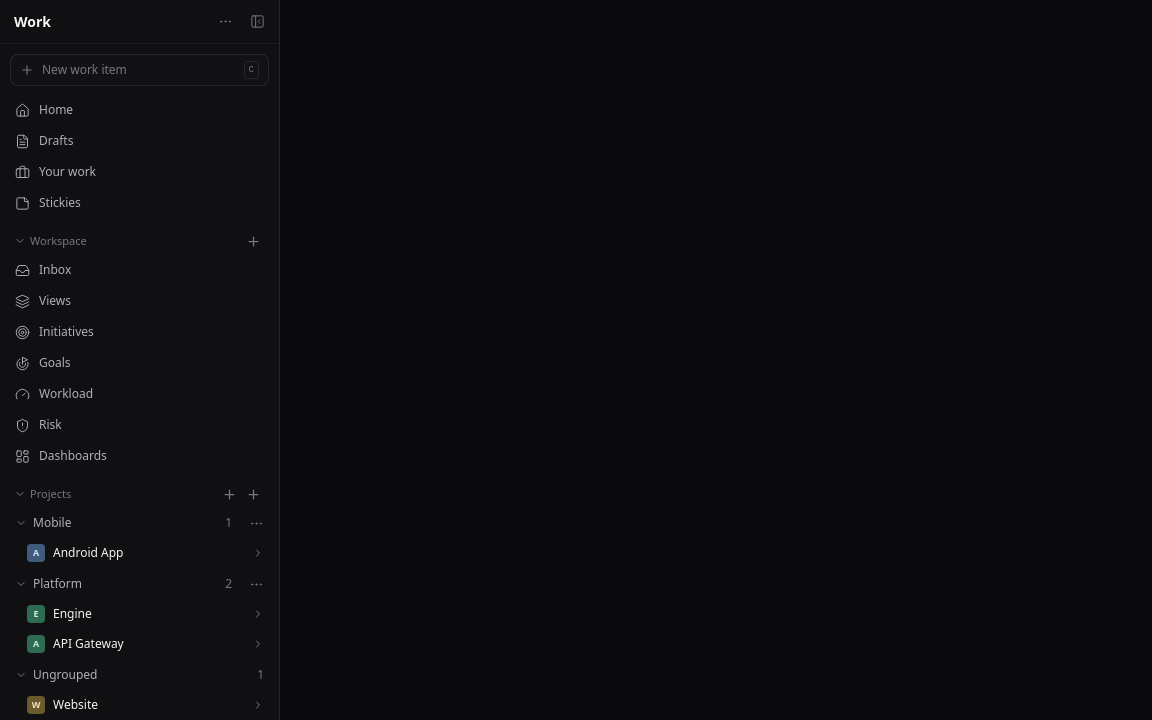
Test: teamspace manage dialog › create adds a group header after refetch
Click the button named "New teamspace" at [229, 494], box top-left (217, 482), bottom-right (241, 506)
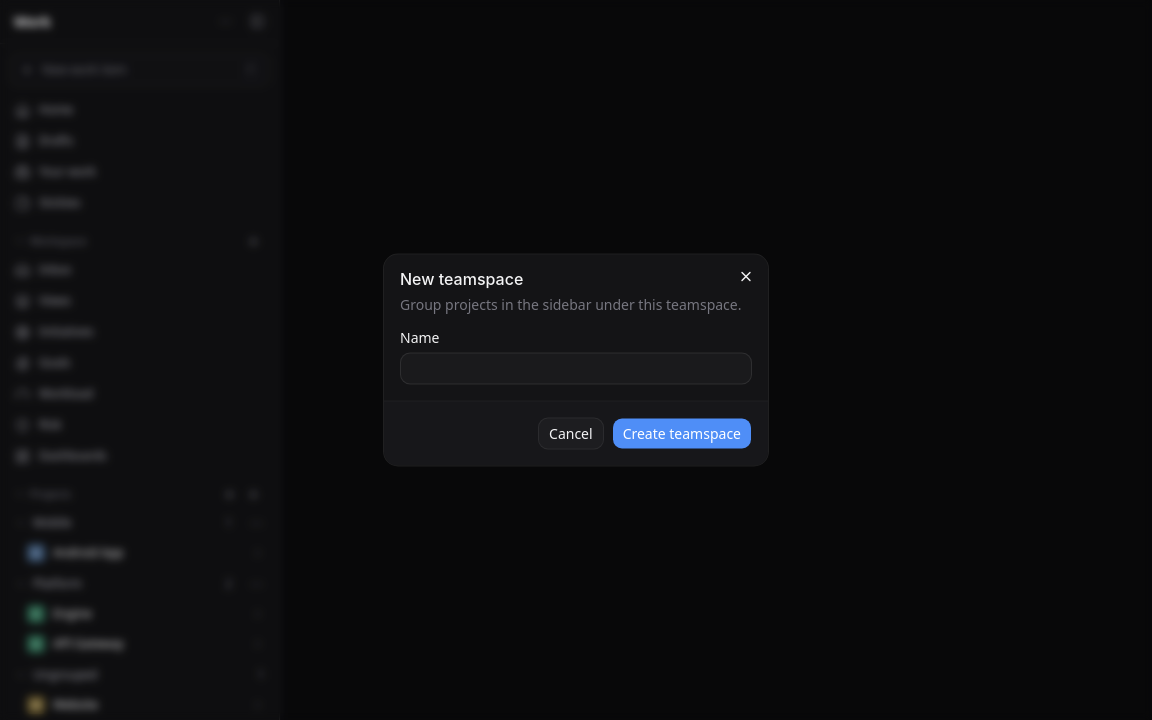
Type "  Data  " into the field labelled "Name" at [576, 368], box top-left (400, 352), bottom-right (752, 384)
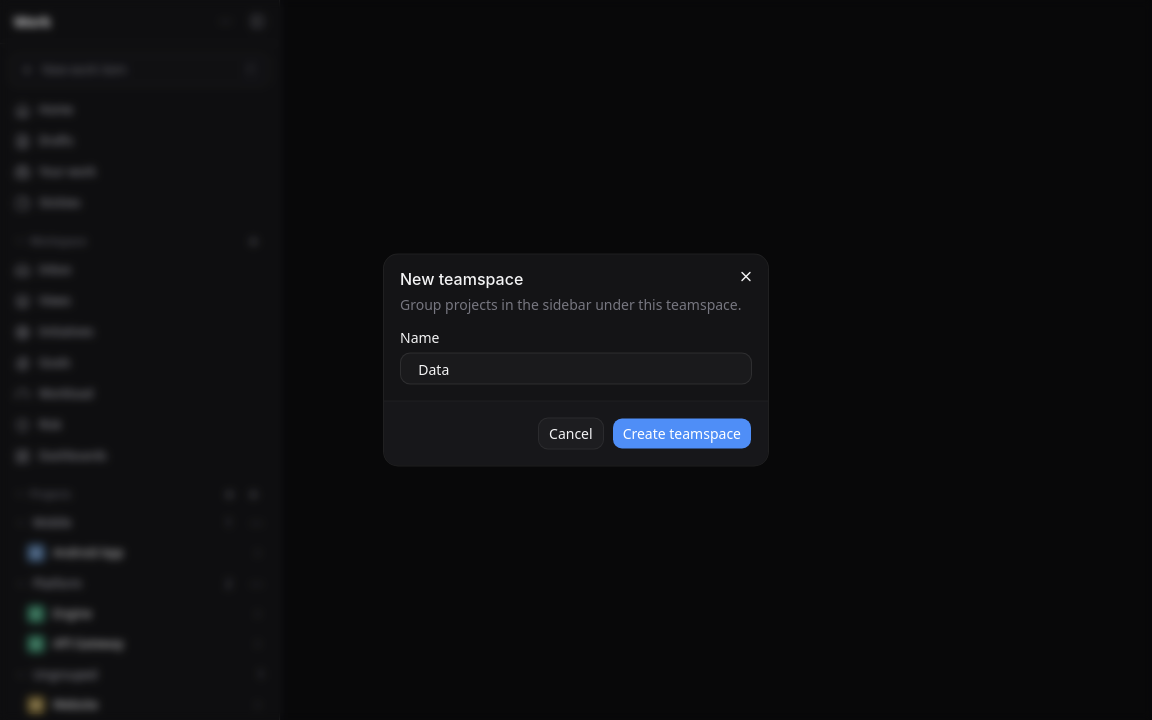
Click the button "Create teamspace" at [682, 434], box top-left (612, 418), bottom-right (752, 450)
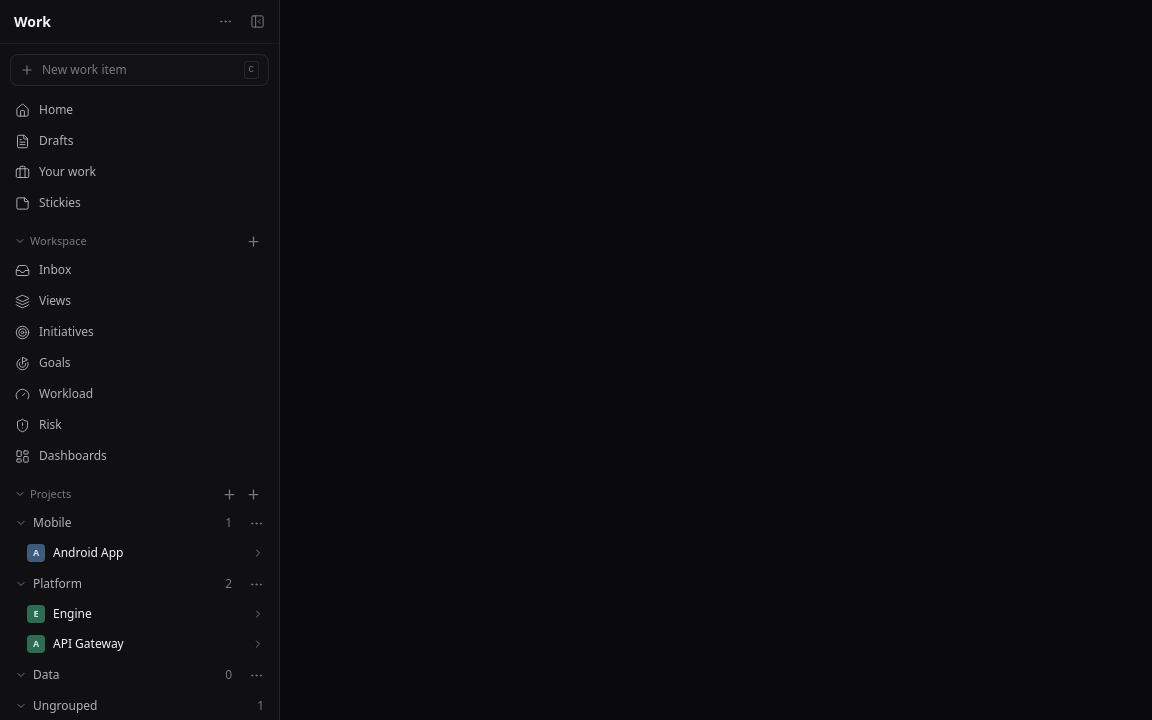
expect the text "Data" is shown: met, box top-left (33, 666), bottom-right (60, 684)
